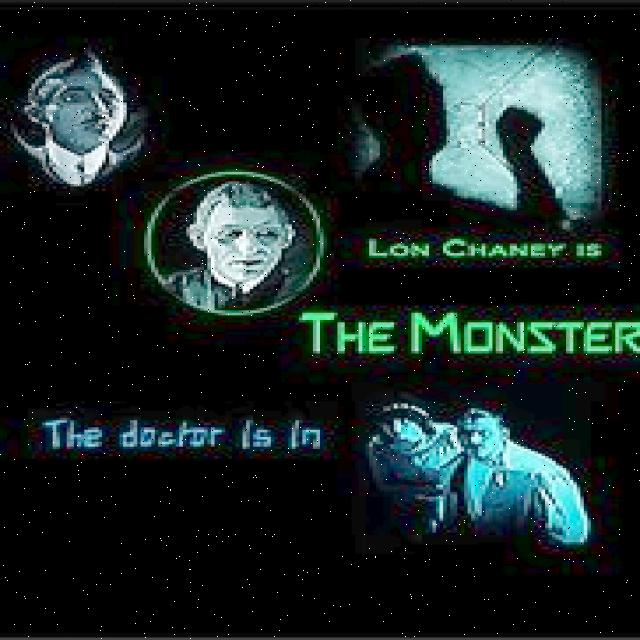movie-judul: (285, 234, 640, 370), (38, 385, 335, 478)
picture: (10, 20, 640, 574)
